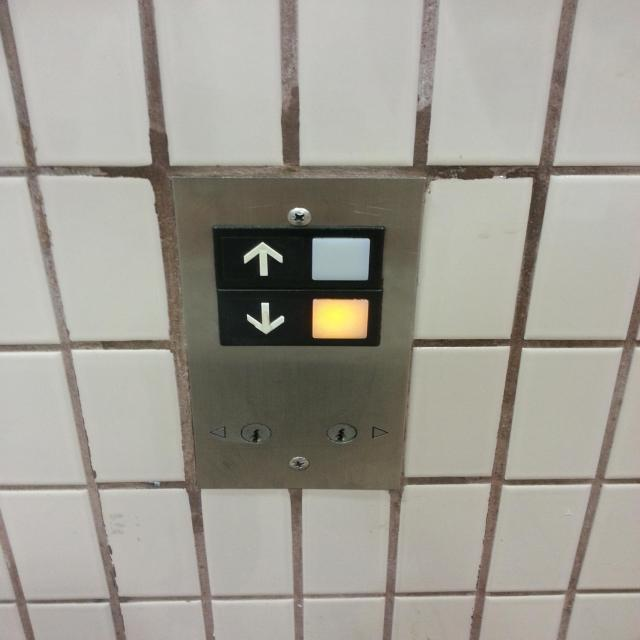down: (214, 285, 386, 351)
keyhole: (323, 419, 359, 446), (237, 419, 274, 445)
up: (212, 220, 386, 296)
